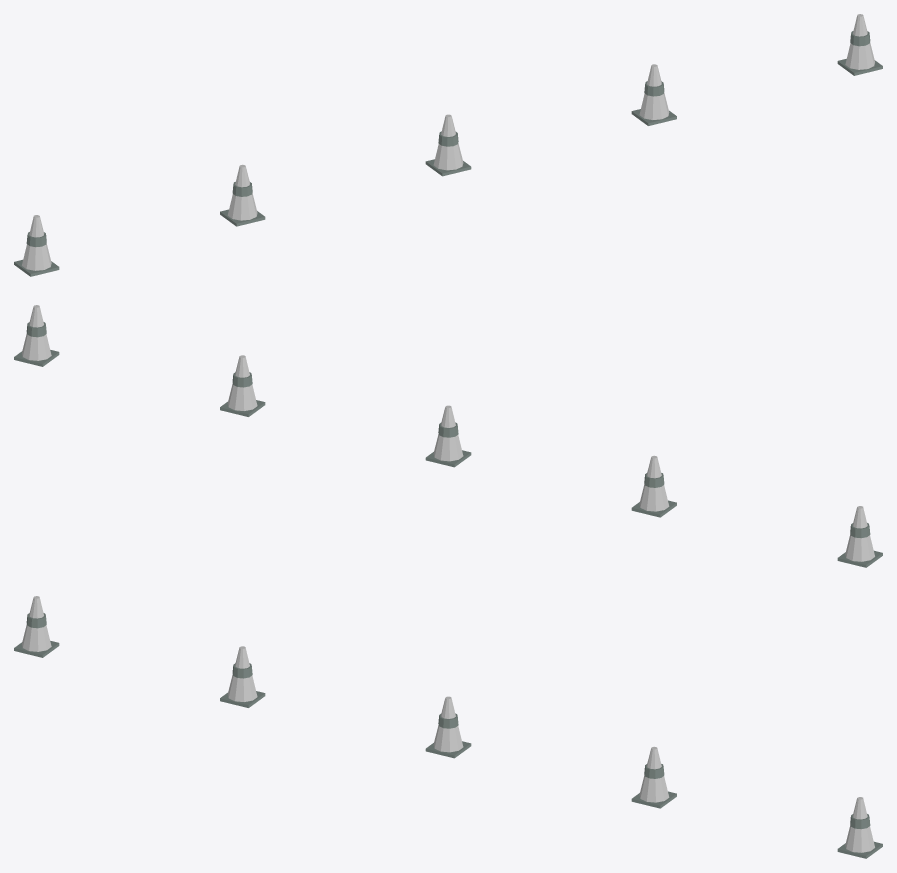
The model's file is SM_Balizas_v4_Conos_LOD0.fbx.
3 renders of one model, top to bottom at view 1: azimuth 30°, elevation 25°; view 2: azimuth 150°, elevation 25°; view 3: azimuth 330°, elevation 25°, orthographic.
Parts seen in each view (by area): view 1: SM_ambiente_aerodromo_v9_LOD0; view 2: SM_ambiente_aerodromo_v9_LOD0; view 3: SM_ambiente_aerodromo_v9_LOD0.
Boxes of the visible parts, x1=… form: SM_ambiente_aerodromo_v9_LOD0: x1=14, y1=14, x2=882, y2=276; SM_ambiente_aerodromo_v9_LOD0: x1=14, y1=305, x2=882, y2=567; SM_ambiente_aerodromo_v9_LOD0: x1=14, y1=596, x2=882, y2=858.
Bounding box in the file's own units: 12.42 × 0.71 × 0.42.
